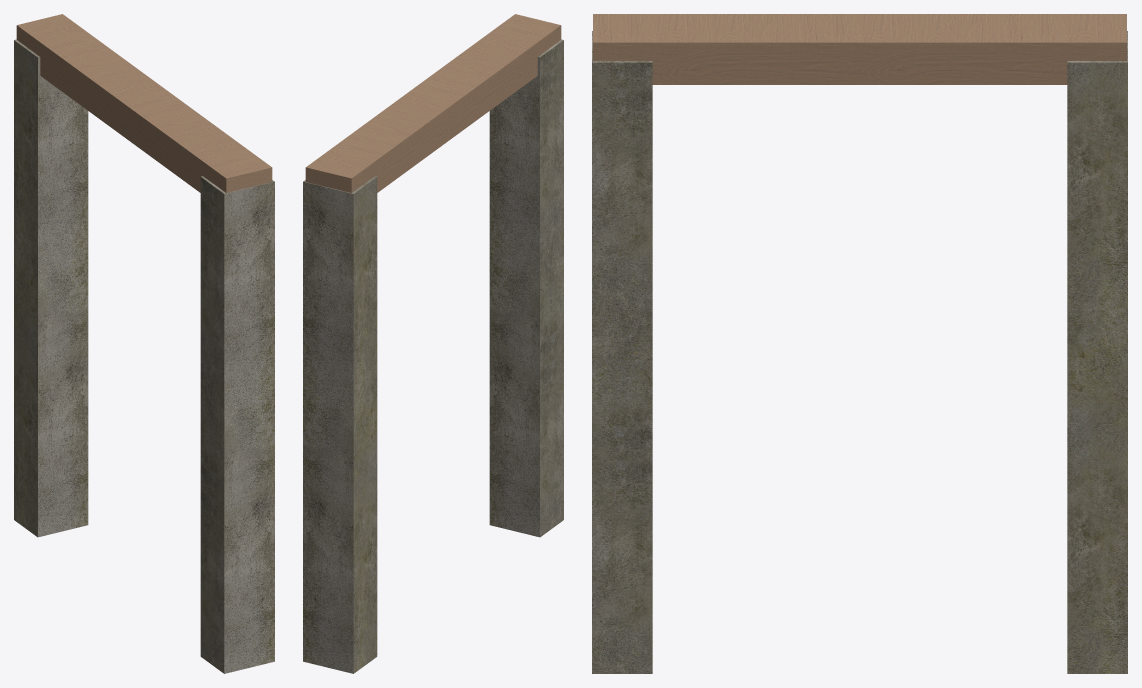
The model's file is in_impsmall_doorjam_01.dae.
The picture shows the model from 3 angles, left to right: view 1: azimuth 30°, elevation 25°; view 2: azimuth 150°, elevation 25°; view 3: azimuth 270°, elevation 25°; orthographic projection. The views are drawn at different scales.
Parts seen in each view (by area): view 1: plaster, oak; view 2: plaster, oak; view 3: plaster, oak.
Boxes of the visible parts, bbox=[...] form: plaster: bbox=[14, 39, 274, 673]; oak: bbox=[16, 14, 272, 192]; plaster: bbox=[303, 39, 563, 673]; oak: bbox=[305, 14, 561, 192]; plaster: bbox=[592, 31, 1127, 673]; oak: bbox=[593, 14, 1126, 84].
Size of what is drawn, in the model's own units: 25.4 by 183 by 237.
